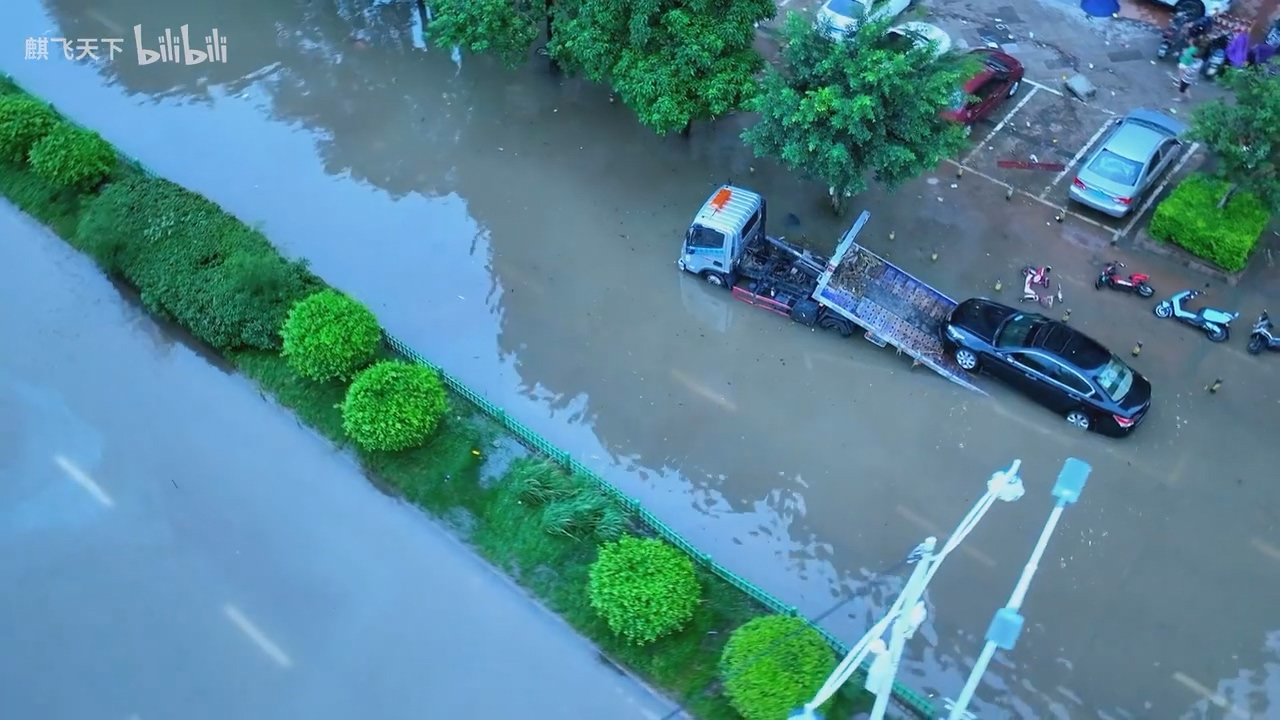puddle: (616, 183, 1244, 675), (1, 357, 453, 720)
